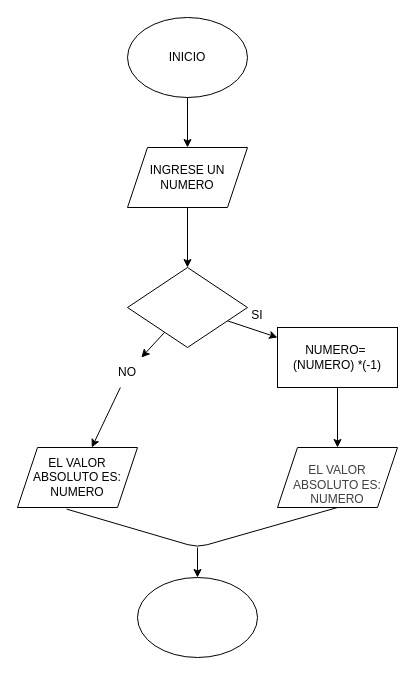
Image size: 415x675. Some labels were removed from this diagram. The shapes that lost their labels are listed below. From the top down, each one's box as (x1, y1, x2, y2) in pixels, then its label:
(126, 266, 248, 348): NUMERO<0
(136, 576, 258, 658): FIN
